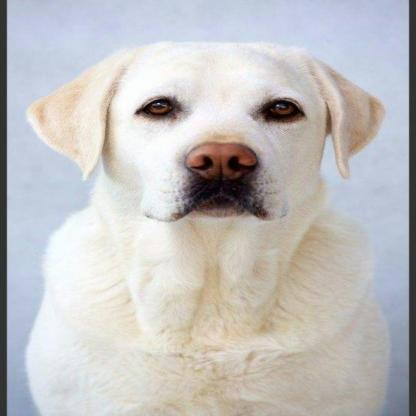dog: (23, 42, 389, 416)
